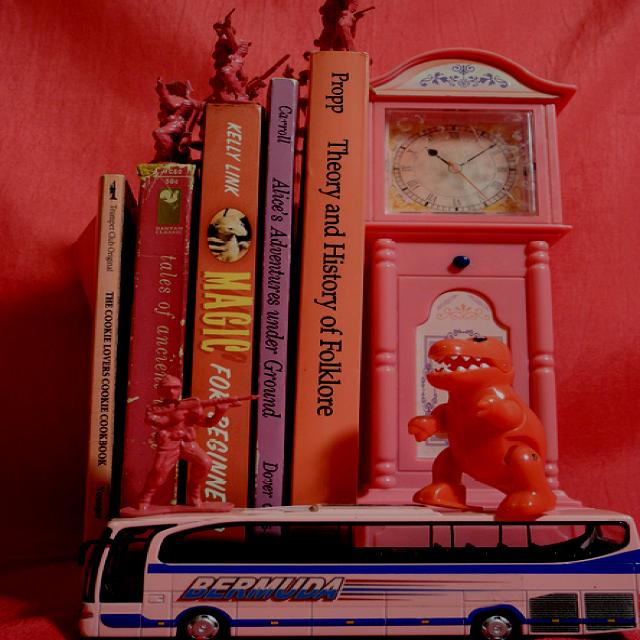Vehicle: (83, 496, 640, 640)
